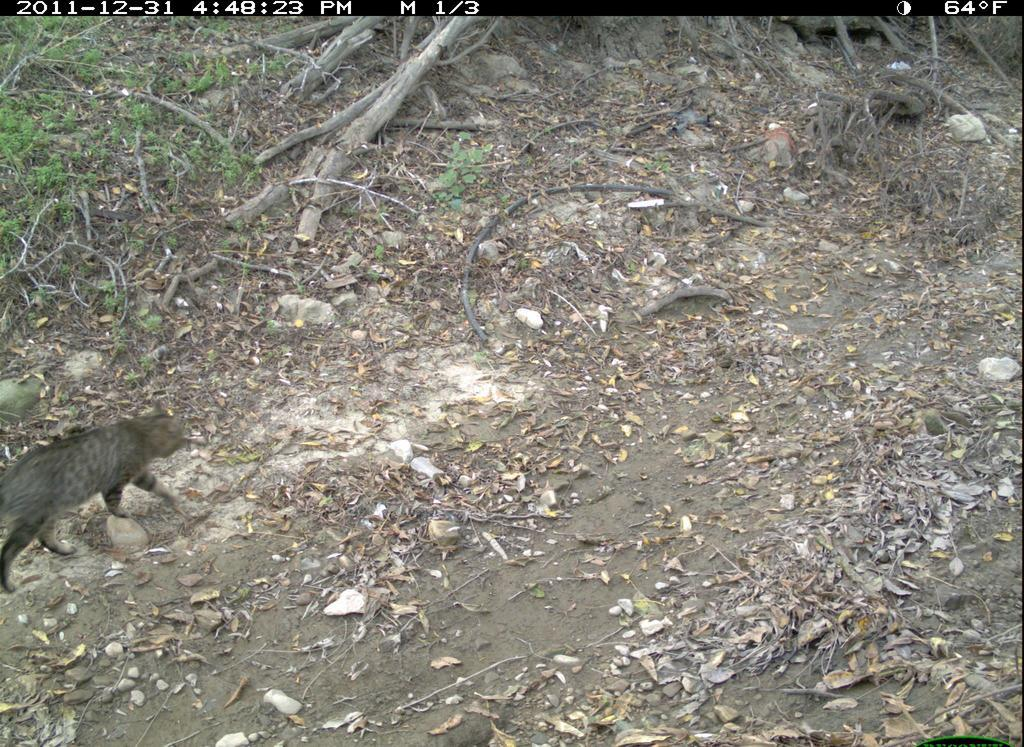cat: (6, 312, 472, 708)
